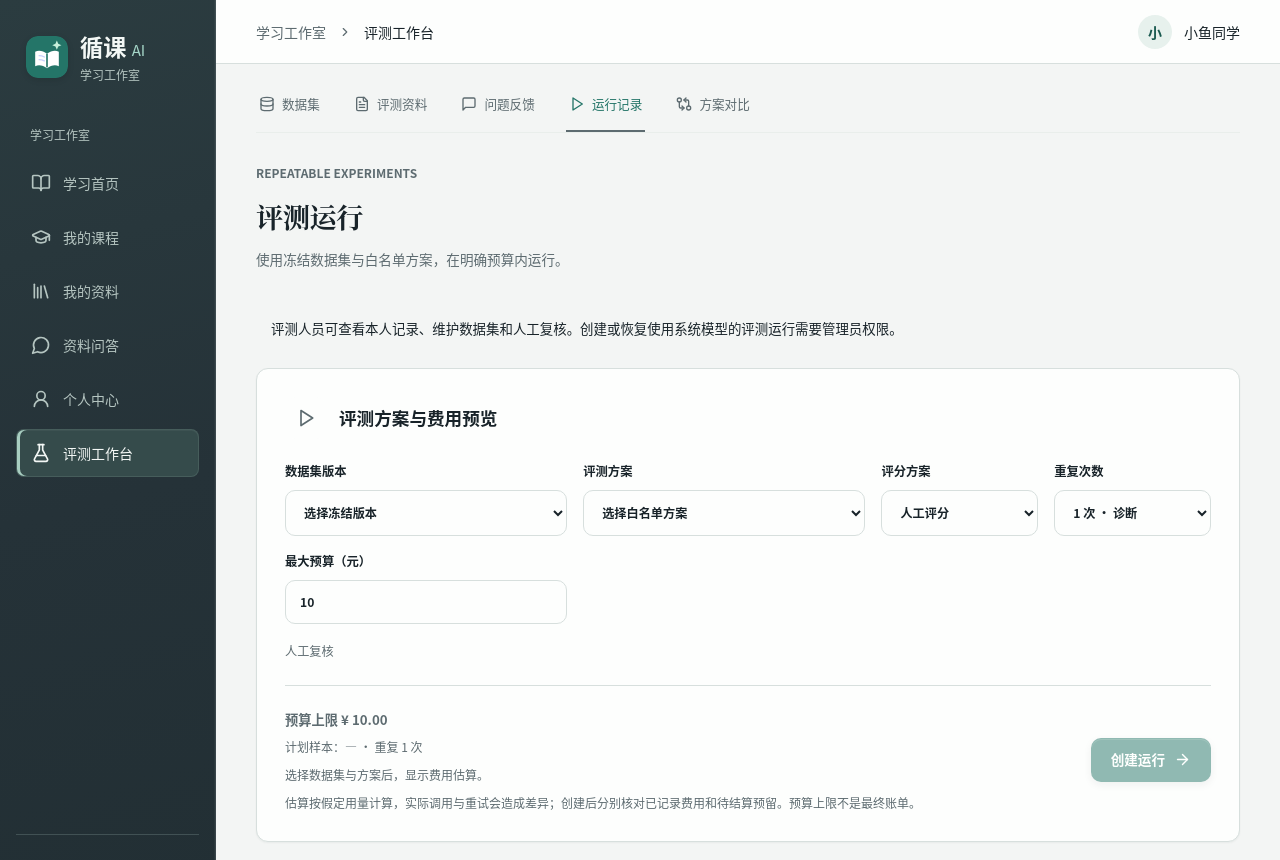
Test: run cost preview › shows missing prices as unknown and never substitutes the budget
The width and height of the screenshot is (1280, 860).
Select "费用集合 · v1" in the dropdown labelled "数据集版本": (426, 513) top-left (285, 490), bottom-right (567, 536)
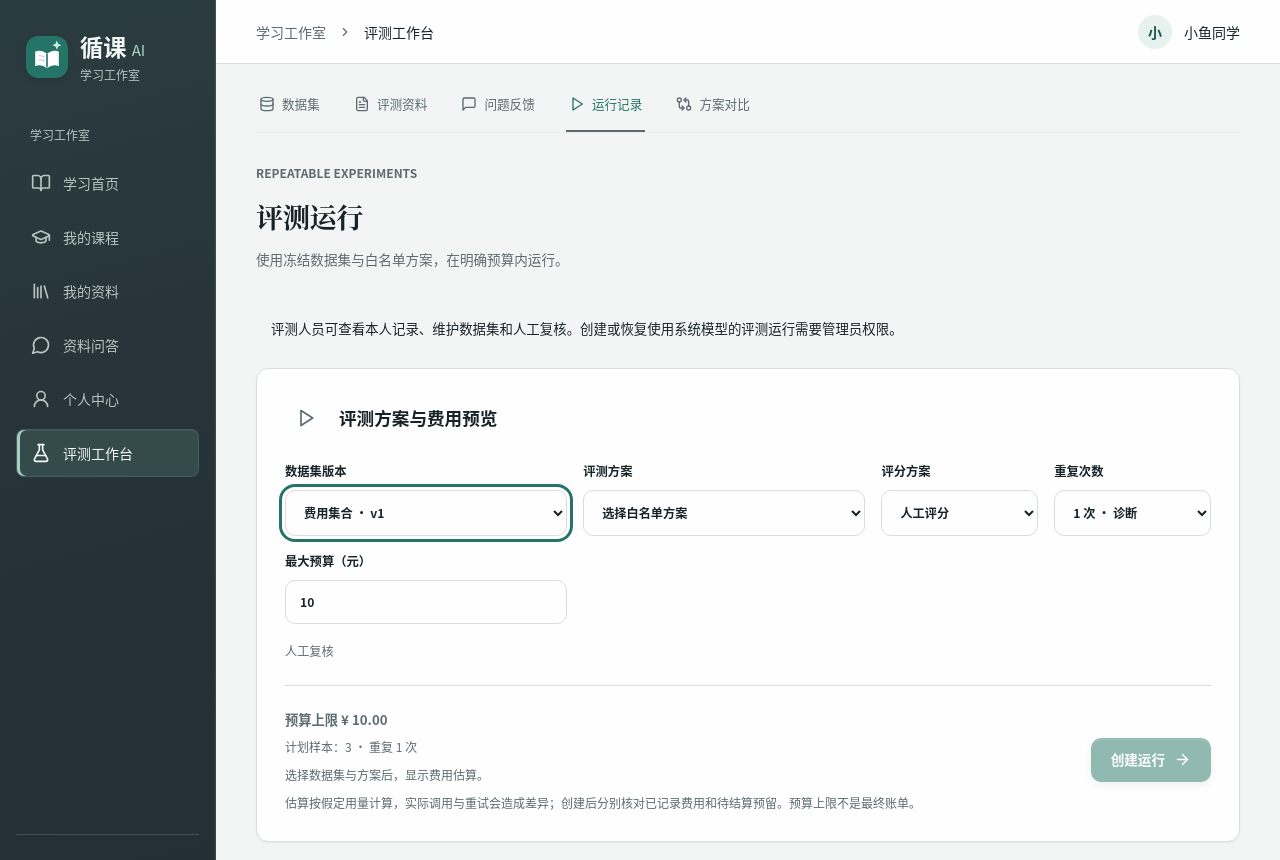
Select "向量检索" in the dropdown labelled "评测方案": (724, 513) top-left (583, 490), bottom-right (865, 536)
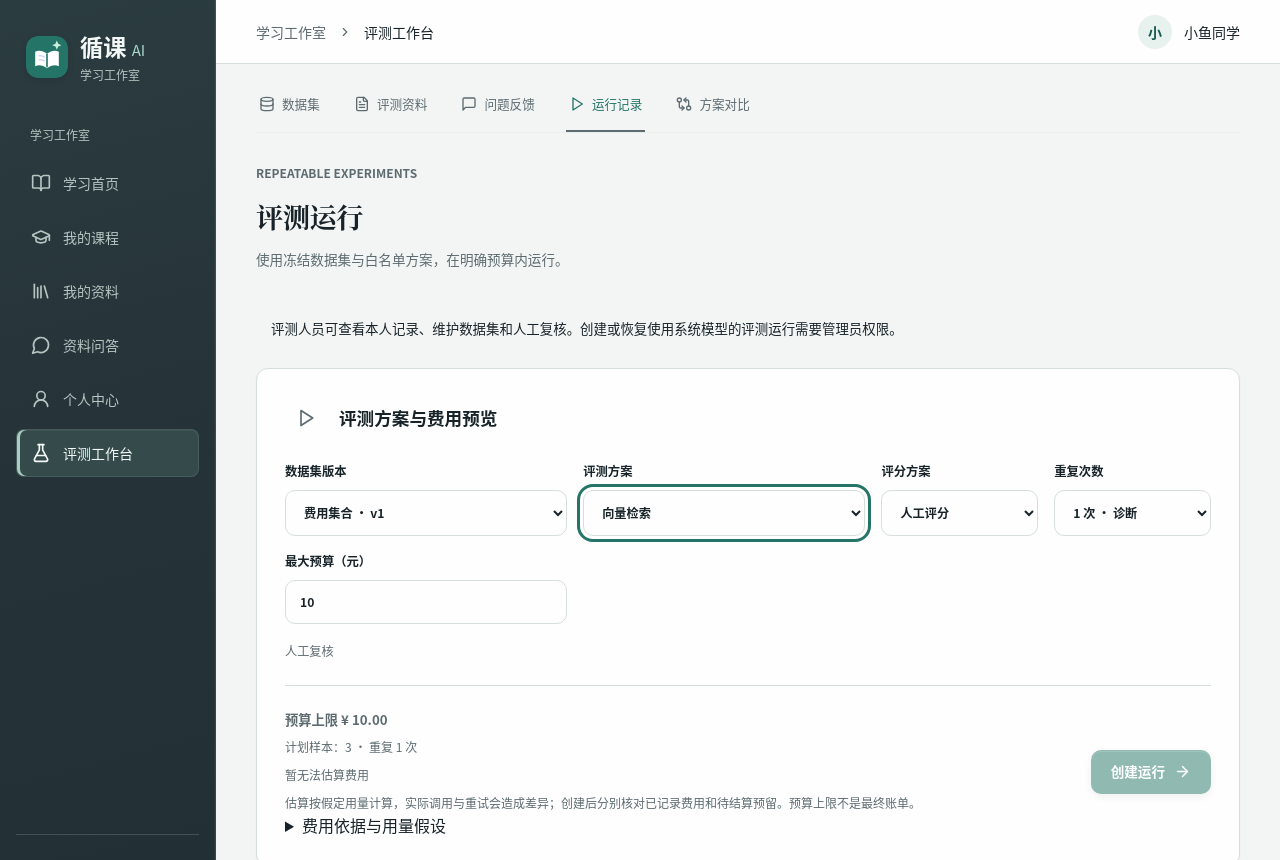
Check: the text "预算上限 ¥ 10.00" is shown, box top-left (285, 710), bottom-right (388, 729)
Check: the text "暂无法估算费用" is shown, box top-left (285, 766), bottom-right (369, 783)
Click the heading "费用依据与用量假设": (374, 825) top-left (302, 813), bottom-right (446, 837)
(page scrolled)
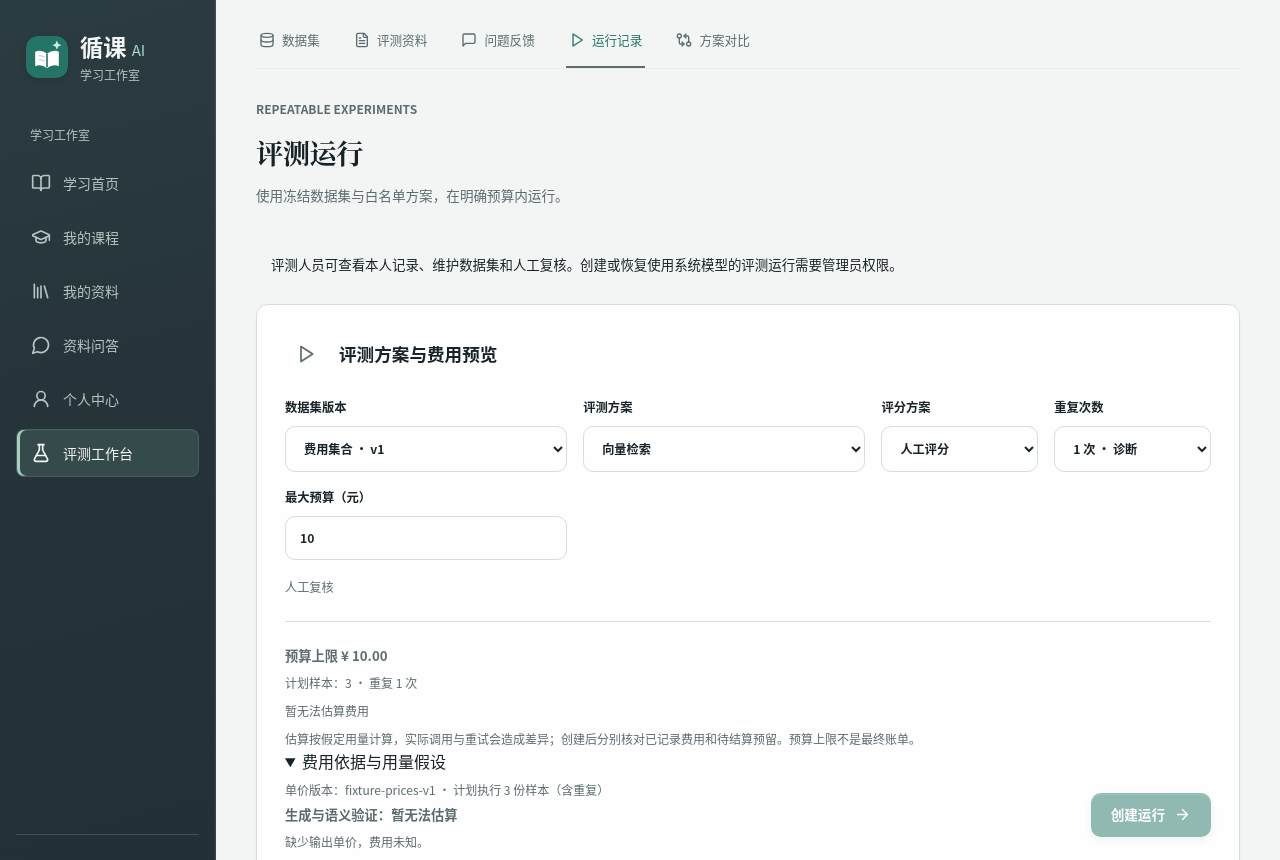
Check: the button "创建运行" is disabled, box top-left (1091, 792), bottom-right (1211, 836)
Check: the text "缺少输出单价，费用未知。" is shown, box top-left (285, 833), bottom-right (429, 850)
